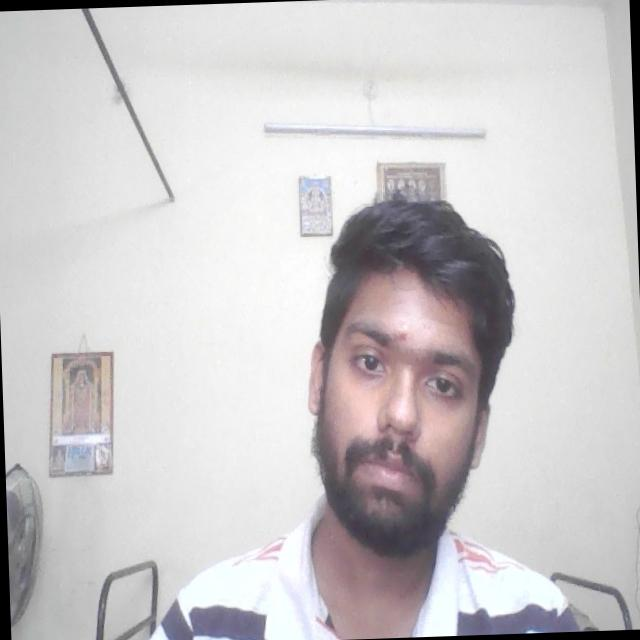Focused: (299, 264, 489, 500)
